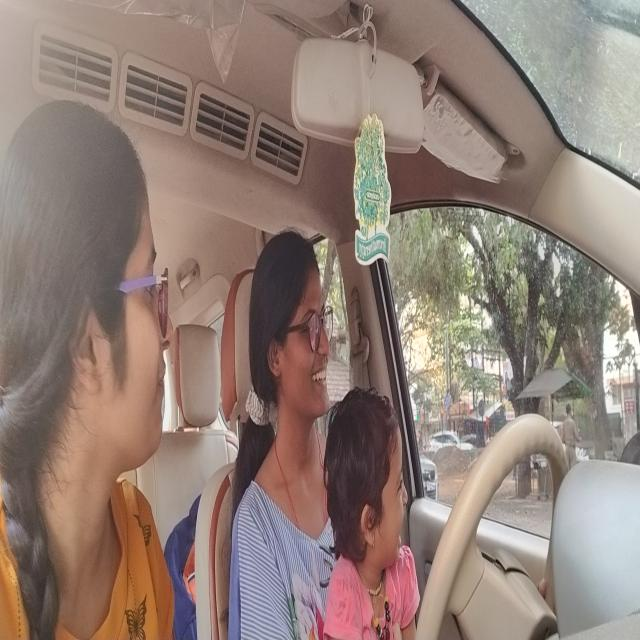child: (324, 382, 418, 570)
person: (0, 88, 177, 489), (242, 231, 334, 438)
